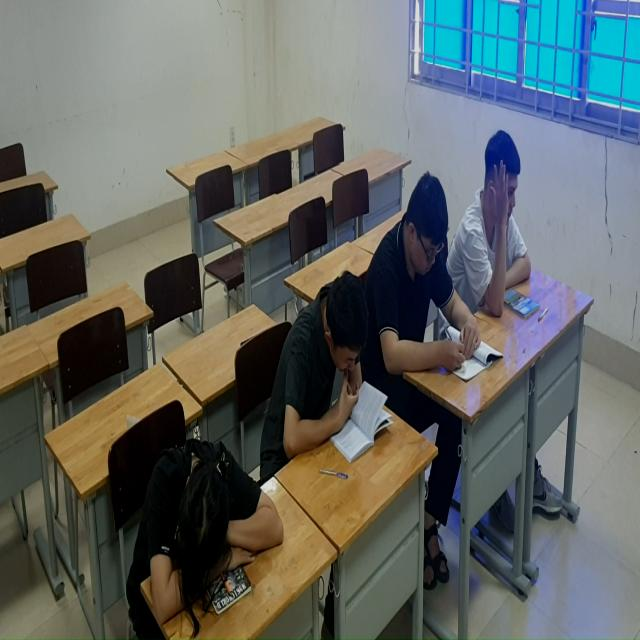raise_hand: (466, 126, 538, 348)
read: (373, 178, 485, 425), (273, 267, 399, 472)
sleep: (124, 439, 295, 640)
